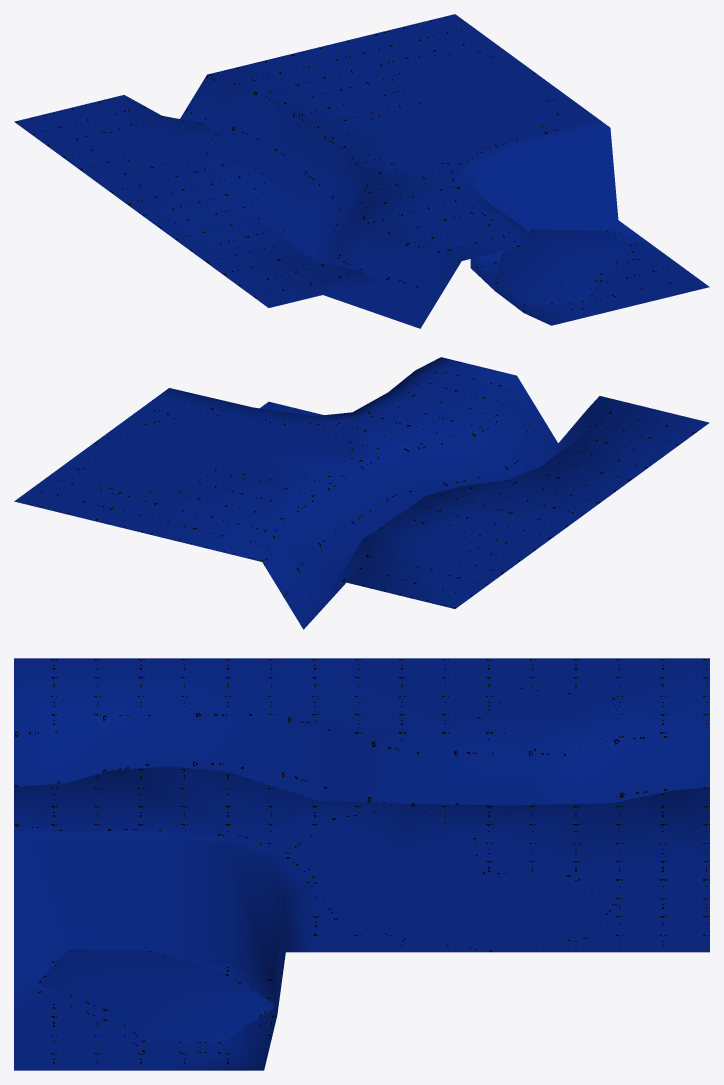
Rendered from GRD_S_C4_R1_1.fbx.
The picture shows the model from 3 angles, top to bottom: view 1: azimuth 30°, elevation 25°; view 2: azimuth 150°, elevation 25°; view 3: azimuth 270°, elevation 25°; orthographic projection. The views are drawn at different scales.
Parts seen in each view (by area): view 1: material_00022000, material_C0032000, material_C0042000, material_00052000, material_C0012000, material_C0062000; view 2: material_00022000, material_C0032000, material_C0042000, material_00052000; view 3: material_00022000, material_C0032000, material_00052000, material_C0042000, material_C0012000, material_C0062000.
Boxes of the visible parts, x1=… form: material_00022000: x1=14, y1=14, x2=709, y2=325; material_C0032000: x1=180, y1=75, x2=461, y2=328; material_C0042000: x1=108, y1=51, x2=549, y2=164; material_00052000: x1=451, y1=119, x2=618, y2=267; material_C0012000: x1=495, y1=229, x2=634, y2=305; material_C0062000: x1=495, y1=255, x2=634, y2=312; material_00022000: x1=14, y1=362, x2=709, y2=608; material_C0032000: x1=262, y1=376, x2=591, y2=629; material_C0042000: x1=78, y1=412, x2=480, y2=569; material_00052000: x1=157, y1=357, x2=461, y2=423; material_00022000: x1=14, y1=658, x2=709, y2=1070; material_C0032000: x1=14, y1=713, x2=709, y2=805; material_00052000: x1=14, y1=823, x2=319, y2=1013; material_C0042000: x1=284, y1=688, x2=624, y2=952; material_C0012000: x1=37, y1=950, x2=276, y2=1043; material_C0062000: x1=37, y1=986, x2=276, y2=1053.
Size of the model in its own units: 12800 by 2400 by 12800.
